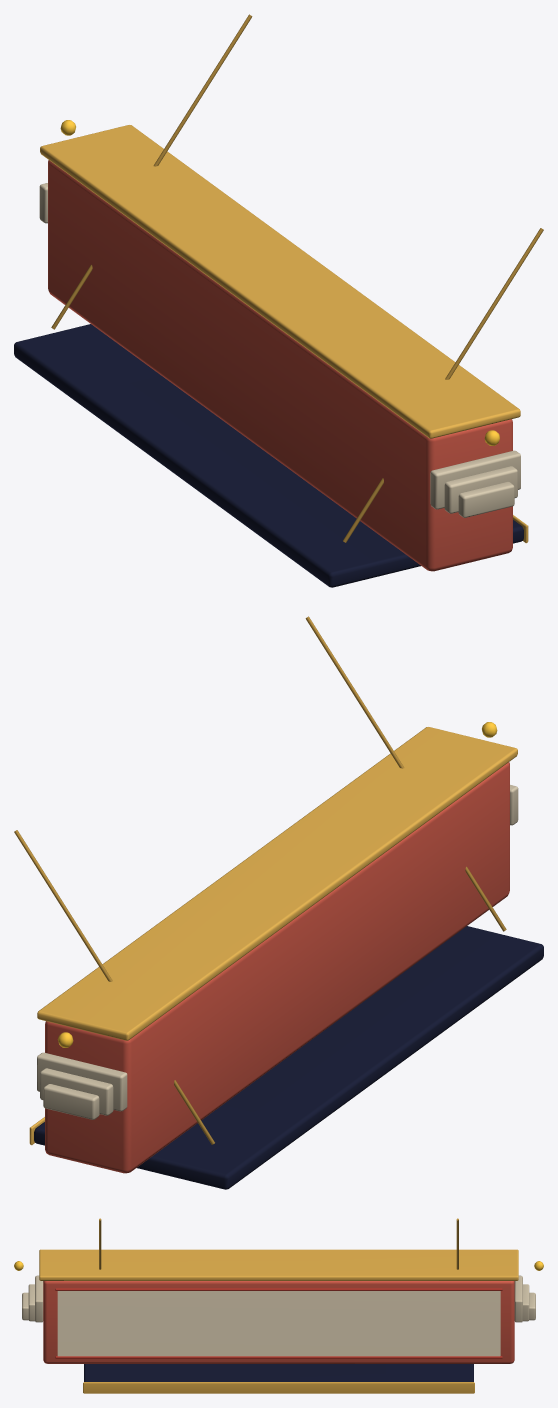
Rendered from SM_Cinema_Marquee.fbx.
The picture shows the model from 3 angles, top to bottom: view 1: azimuth 30°, elevation 25°; view 2: azimuth 150°, elevation 25°; view 3: azimuth 270°, elevation 25°; orthographic projection. The views are drawn at different scales.
Visible parts, largest first — view 1: SM_Cinema_Marquee; view 2: SM_Cinema_Marquee; view 3: SM_Cinema_Marquee.
Part boxes in pixels (bbox=[...]): SM_Cinema_Marquee: bbox=[14, 14, 543, 587]; SM_Cinema_Marquee: bbox=[14, 616, 543, 1189]; SM_Cinema_Marquee: bbox=[14, 1218, 543, 1393].
Bounding box in the file's own units: 395 × 506 × 1304.
